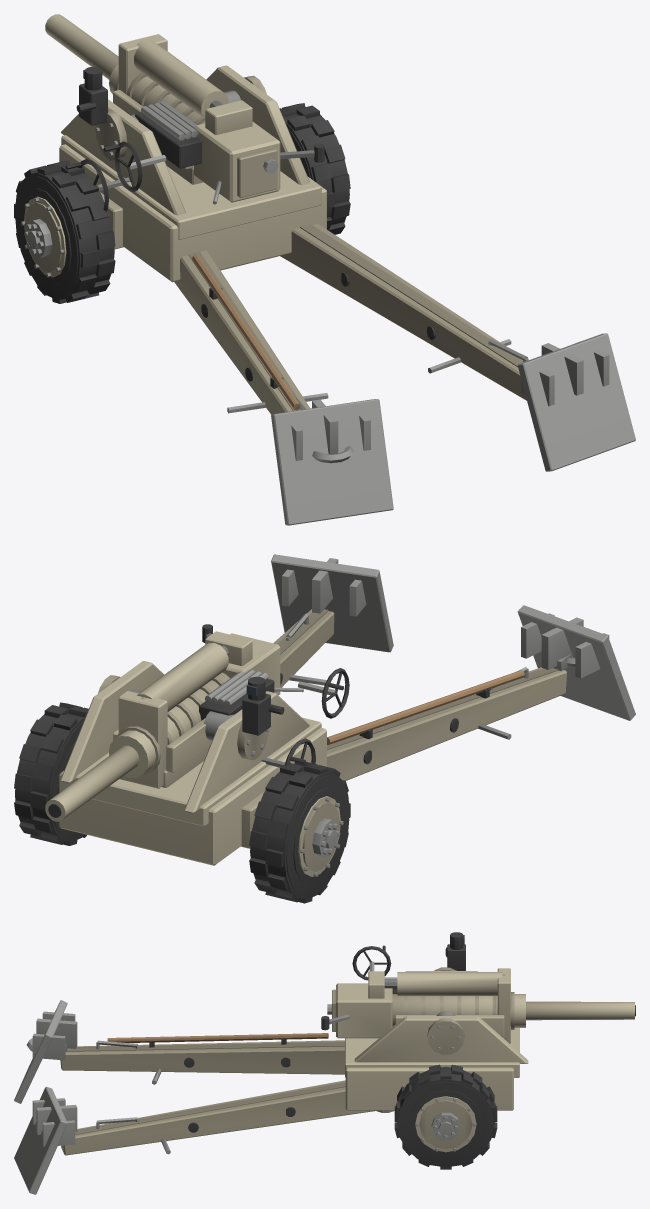
The model's file is rus_mor_vasil.glb.
3 renders of one model, top to bottom at view 1: azimuth 30°, elevation 25°; view 2: azimuth 150°, elevation 25°; view 3: azimuth 270°, elevation 25°, orthographic. The views are drawn at different scales.
Visible parts, largest first — view 1: body, barrel, turret, wheel_0, wheel_1; view 2: body, barrel, turret, wheel_0, wheel_1; view 3: body, barrel, turret, wheel_1.
Boxes of the visible parts, bbox=[...] form: body: bbox=[59, 144, 635, 525]; barrel: bbox=[45, 14, 324, 204]; turret: bbox=[61, 65, 321, 239]; wheel_0: bbox=[14, 160, 115, 303]; wheel_1: bbox=[279, 103, 350, 234]; body: bbox=[59, 554, 635, 865]; barrel: bbox=[45, 624, 303, 821]; turret: bbox=[61, 661, 349, 826]; wheel_0: bbox=[249, 762, 350, 903]; wheel_1: bbox=[14, 702, 88, 845]; body: bbox=[14, 1000, 513, 1194]; barrel: bbox=[321, 968, 635, 1043]; turret: bbox=[345, 932, 528, 1077]; wheel_1: bbox=[394, 1064, 497, 1169].
Size of the model in its own units: 2.22 by 1.37 by 4.62.
